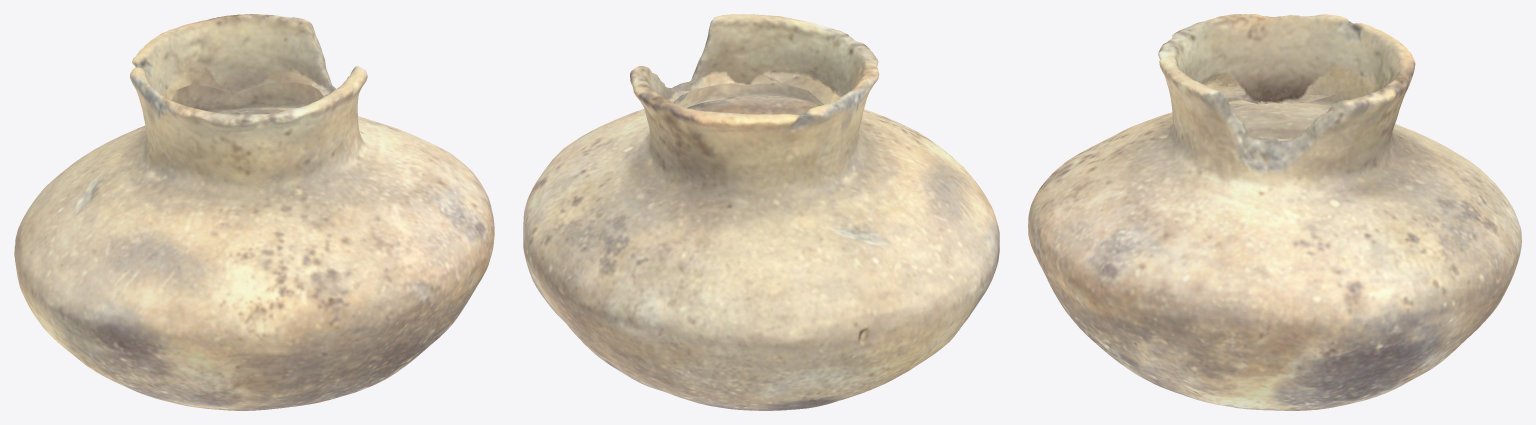
Rendered from Ark_HM_658_HI.glb.
3 renders of one model, left to right at view 1: azimuth 30°, elevation 25°; view 2: azimuth 150°, elevation 25°; view 3: azimuth 270°, elevation 25°, orthographic. The views are drawn at different scales.
Size of the model in its own units: 0.4993 by 0.3459 by 0.4964.
Materials: 1 (1 with a texture image).
